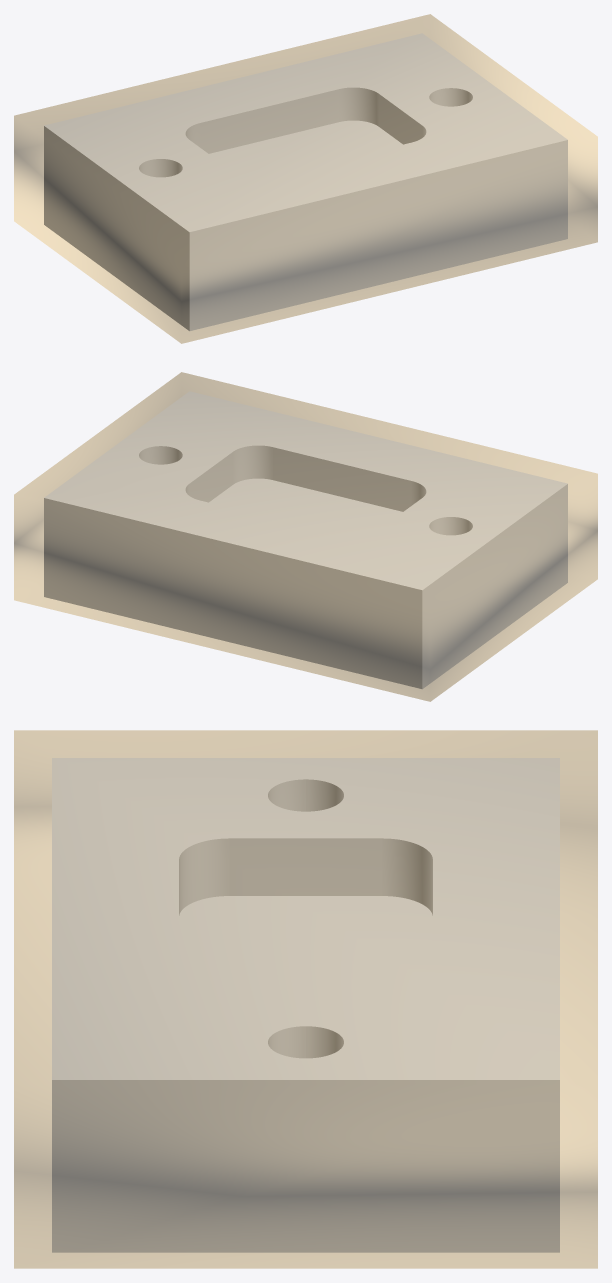
File: ready.cam.glb
The picture shows the model from 3 angles, top to bottom: view 1: azimuth 30°, elevation 25°; view 2: azimuth 150°, elevation 25°; view 3: azimuth 270°, elevation 25°; orthographic projection. The views are drawn at different scales.
Visible parts, largest first — view 1: stock, part; view 2: stock, part; view 3: stock, part.
Boxes of the visible parts, <box> form: stock: <box>14,14,597,343</box>; part: <box>44,33,567,330</box>; stock: <box>14,372,597,701</box>; part: <box>44,391,567,688</box>; stock: <box>14,730,597,1268</box>; part: <box>52,758,559,1252</box>.
Size of the model in its own units: 0.066 by 0.016 by 0.046.
